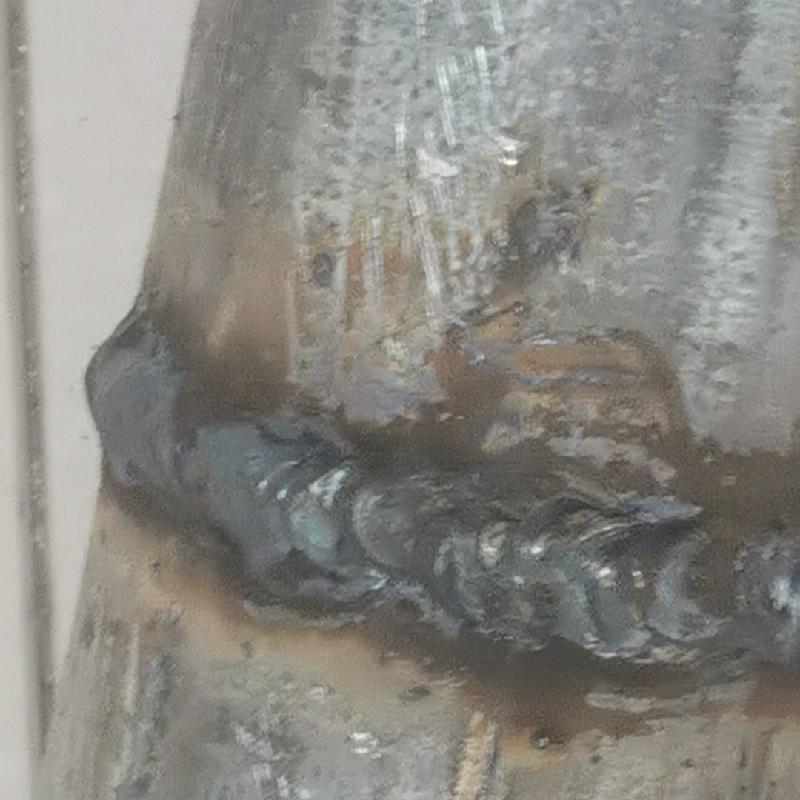good: (50, 271, 798, 680)
